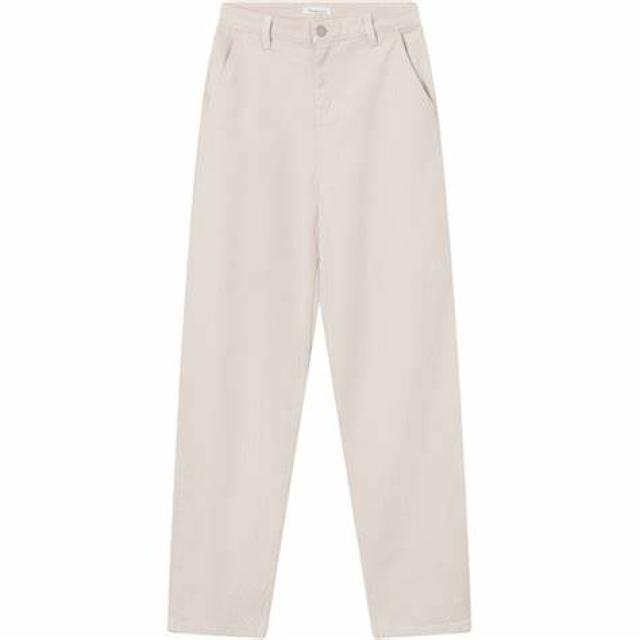long-pants: (166, 0, 472, 640)
